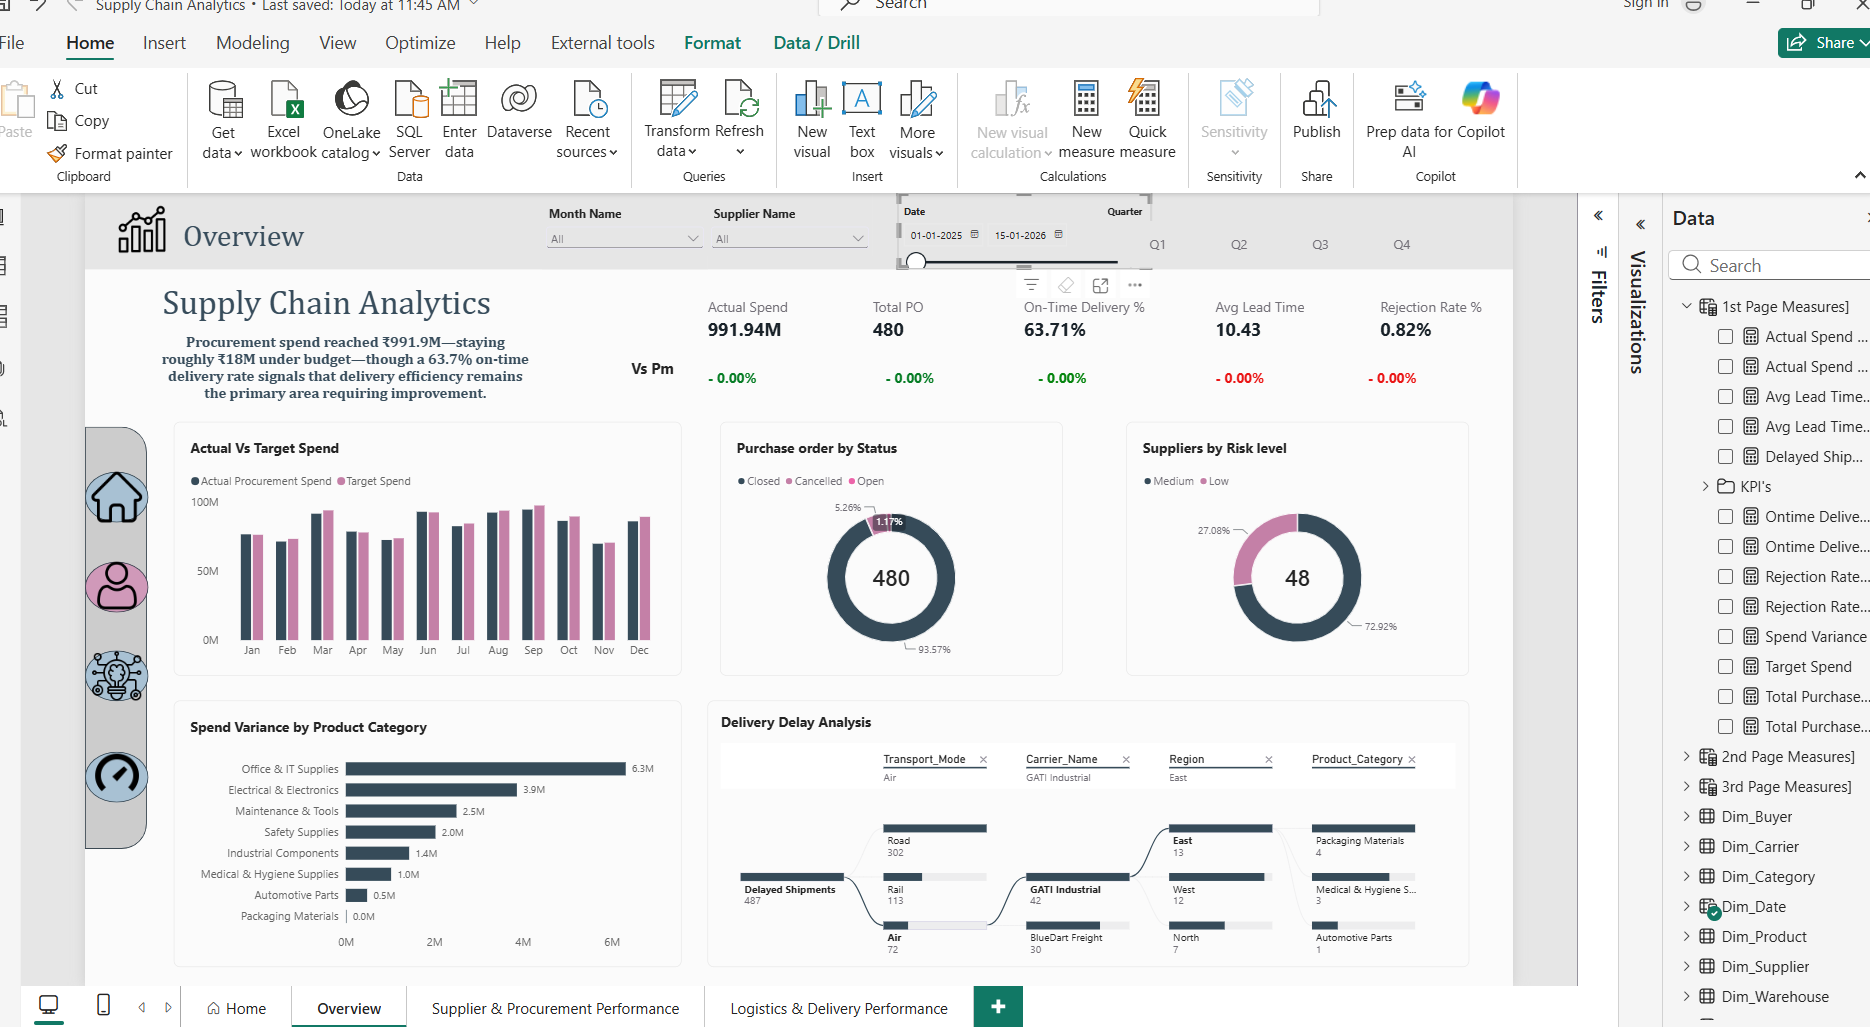

The page's visual inventory and layout, read from the dashboard file:
{"tool":"powerbi","page":{"name":"Overview","canvas":[1800,1000],"ordinal":1},"visuals":[{"type":"shape","box":[-8,0,1808,96],"z":0},{"type":"shape","box":[0,295,78,532],"z":1000},{"type":"textbox","box":[112,32,176,48],"z":2000},{"type":"textbox","box":[64,112,480,64],"z":3000},{"type":"shape","box":[0,352,80,64],"z":4000},{"type":"shape","box":[0,464,80,64],"z":5000},{"type":"shape","box":[0,576,80,64],"z":6000},{"type":"shape","box":[0,704,80,64],"z":7000},{"type":"image","box":[32,16,80,60],"z":8000},{"type":"image","box":[0,464,80,64],"z":9000},{"type":"image","box":[0,576,80,64],"z":10000},{"type":"image","box":[0,704,80,60],"z":11000},{"type":"cardVisual","fields":{"Data":["[1st Page Measures].Actual Procurement Spend"]},"box":[768,112,144,96],"z":12000},{"type":"cardVisual","fields":{"Data":["[1st Page Measures].Total Purchase order"]},"box":[976,112,144,96],"z":13000},{"type":"cardVisual","fields":{"Data":["[1st Page Measures].Ontime Delivered Shipment %"]},"box":[1168,112,192,96],"z":14000},{"type":"cardVisual","fields":{"Data":["[1st Page Measures].Avg lead time"]},"box":[1408,112,160,95],"z":15000},{"type":"cardVisual","fields":{"Data":["[1st Page Measures].Rejection Rate %"]},"box":[1616,112,160,95],"z":16000},{"type":"image","box":[0,352,80,64],"z":17000},{"type":"clusteredColumnChart","title":"Actual Vs Target Spend","fields":{"Y":["[1st Page Measures].Actual Procurement Spend","[1st Page Measures].Target Spend"],"Category":["Dim_Date.Month_Name"]},"box":[112,288,640,320],"z":18000},{"type":"clusteredBarChart","title":"Spend Variance by Product Category","fields":{"Y":["[1st Page Measures].Spend Variance"],"Category":["Dim_Category.Product_Category"]},"box":[112,640,640,336],"z":19000},{"type":"donutChart","title":"Purchase order by Status","fields":{"Y":["[1st Page Measures].Total Purchase order"],"Category":["Fact_Procurement.PO_Status"]},"box":[800,288,432,320],"z":20000},{"type":"donutChart","title":"Suppliers by Risk level","fields":{"Category":["Dim_Supplier.Risk_Level"],"Y":["Count(Dim_Supplier.Supplier_ID)"]},"box":[1312,288,432,320],"z":21000},{"type":"decompositionTreeVisual","title":"Delivery Delay Analysis","fields":{"Analyze":["[1st Page Measures].Delayed Shipments"],"ExplainBy":["Fact_Procurement.Transport_Mode","Dim_Carrier.Carrier_Name","Dim_Buyer.Region","Dim_Category.Product_Category"]},"box":[784,640,960,336],"z":22000},{"type":"cardVisual","fields":{"Data":["[1st Page Measures].Actual Spend MoM % Var"]},"box":[768,208,144,48],"z":23000},{"type":"textbox","box":[688,208,80,48],"z":24000},{"type":"slicer","title":"Month ","fields":{"Values":["Dim_Date.Month_Name"]},"box":[576,0,208,96],"z":25000},{"type":"cardVisual","fields":{"Data":["[1st Page Measures].Total Purchase Order MoM % Var"]},"box":[992,208,144,48],"z":27000},{"type":"slicer","title":"Month ","fields":{"Values":["Dim_Supplier.Supplier_Name"]},"box":[784,0,208,80],"z":28000},{"type":"slicer","title":"Month ","fields":{"Values":["Dim_Date.Date"]},"box":[1024,0,320,96],"z":29000},{"type":"textbox","box":[96,176,464,96],"z":30000},{"type":"slicer","fields":{"Values":["Dim_Date.Quarter"]},"box":[1280,0,448,96],"z":31000},{"type":"cardVisual","fields":{"Data":["[1st Page Measures].Ontime Delivery Shipments MoM Var"]},"box":[1184,208,144,48],"z":32000},{"type":"cardVisual","fields":{"Data":["1st Page Measures].Avg Lead Time MoM % Var"]},"box":[1408,208,144,48],"z":33000},{"type":"cardVisual","fields":{"Data":["1st Page Measures].Rejection Rate MoM % Var"]},"box":[1600,208,144,48],"z":34000}]}

Visuals, with their boxes on the page's 1800x1000 design canvas (x1, y1, x2, y2). These are canvas units, not pixel positions in the 1870x1027 screenshot, which may show the page scaled, cropped or inside an application window:
shape: detection(-8, 0, 1800, 96)
shape: detection(0, 295, 78, 827)
textbox: detection(112, 32, 288, 80)
textbox: detection(64, 112, 544, 176)
shape: detection(0, 352, 80, 416)
shape: detection(0, 464, 80, 528)
shape: detection(0, 576, 80, 640)
shape: detection(0, 704, 80, 768)
image: detection(32, 16, 112, 76)
image: detection(0, 464, 80, 528)
image: detection(0, 576, 80, 640)
image: detection(0, 704, 80, 764)
cardVisual - [1st Page Measures].Actual Procurement Spend: detection(768, 112, 912, 208)
cardVisual - [1st Page Measures].Total Purchase order: detection(976, 112, 1120, 208)
cardVisual - [1st Page Measures].Ontime Delivered Shipment %: detection(1168, 112, 1360, 208)
cardVisual - [1st Page Measures].Avg lead time: detection(1408, 112, 1568, 207)
cardVisual - [1st Page Measures].Rejection Rate %: detection(1616, 112, 1776, 207)
image: detection(0, 352, 80, 416)
"Actual Vs Target Spend" clusteredColumnChart: detection(112, 288, 752, 608)
"Spend Variance by Product Category" clusteredBarChart: detection(112, 640, 752, 976)
"Purchase order by Status" donutChart: detection(800, 288, 1232, 608)
"Suppliers by Risk level" donutChart: detection(1312, 288, 1744, 608)
"Delivery Delay Analysis" decompositionTreeVisual: detection(784, 640, 1744, 976)
cardVisual - [1st Page Measures].Actual Spend MoM % Var: detection(768, 208, 912, 256)
textbox: detection(688, 208, 768, 256)
"Month " slicer: detection(576, 0, 784, 96)
cardVisual - [1st Page Measures].Total Purchase Order MoM % Var: detection(992, 208, 1136, 256)
"Month " slicer: detection(784, 0, 992, 80)
"Month " slicer: detection(1024, 0, 1344, 96)
textbox: detection(96, 176, 560, 272)
slicer - Dim_Date.Quarter: detection(1280, 0, 1728, 96)
cardVisual - [1st Page Measures].Ontime Delivery Shipments MoM Var: detection(1184, 208, 1328, 256)
cardVisual - 1st Page Measures].Avg Lead Time MoM % Var: detection(1408, 208, 1552, 256)
cardVisual - 1st Page Measures].Rejection Rate MoM % Var: detection(1600, 208, 1744, 256)
